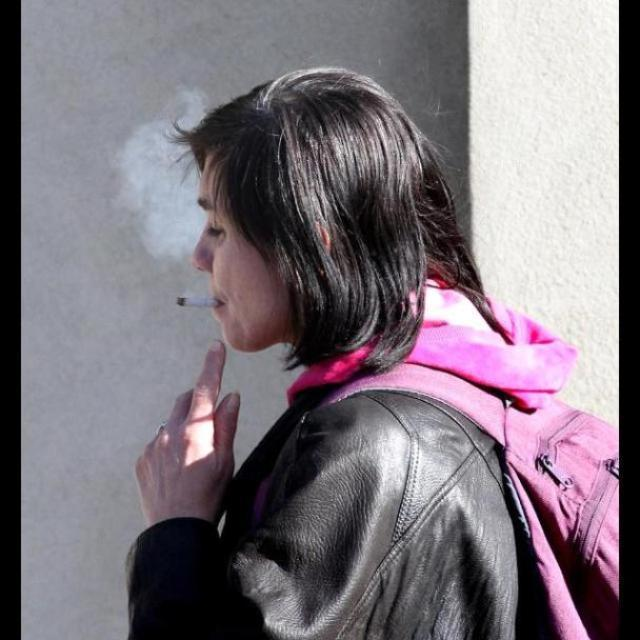rokok: (171, 288, 237, 314)
